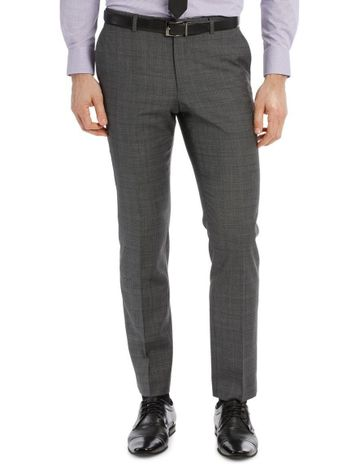feet: (119, 366, 262, 459)
